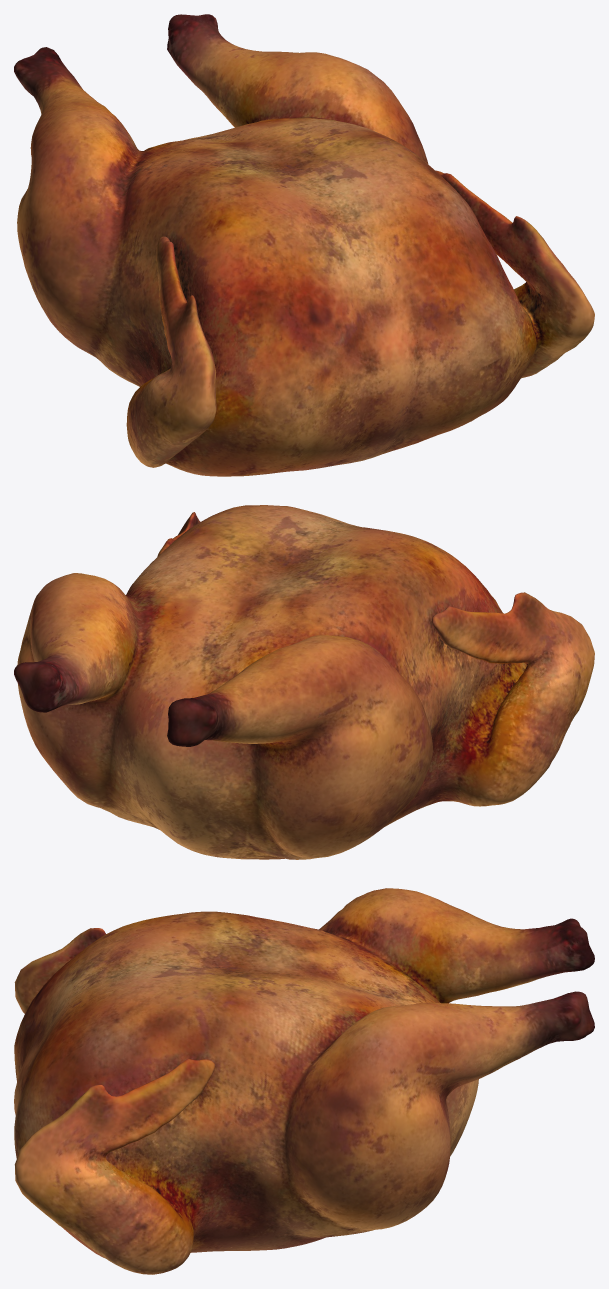
File: roast_chicken.glb
3 views of the same model, one above another, from view 1: azimuth 30°, elevation 25°; view 2: azimuth 150°, elevation 25°; view 3: azimuth 270°, elevation 25° (orthographic).
Visible parts, largest first — view 1: Group20576; view 2: Group20576; view 3: Group20576.
Part boxes in pixels (x1,y1,x2,y2): Group20576: (14,14,594,476); Group20576: (14,505,594,859); Group20576: (14,888,594,1274).
Size of the model in its own units: 0.3369 by 0.2097 by 0.4078.
1 material, 1 textured.
